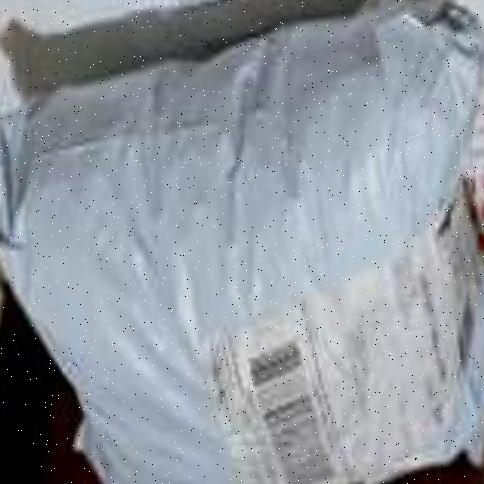Other: (0, 79, 484, 479)
